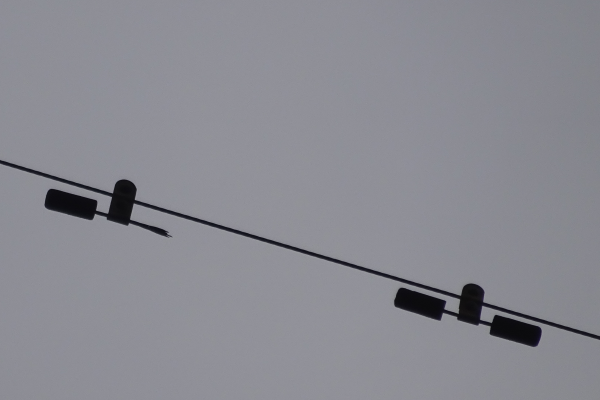damper_defect: (392, 281, 544, 351), (42, 176, 173, 241)
